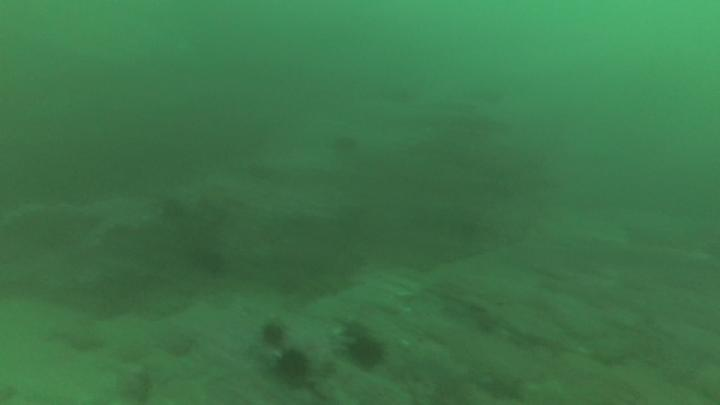echinus: (349, 338, 388, 371), (280, 352, 308, 382), (261, 323, 281, 345)
